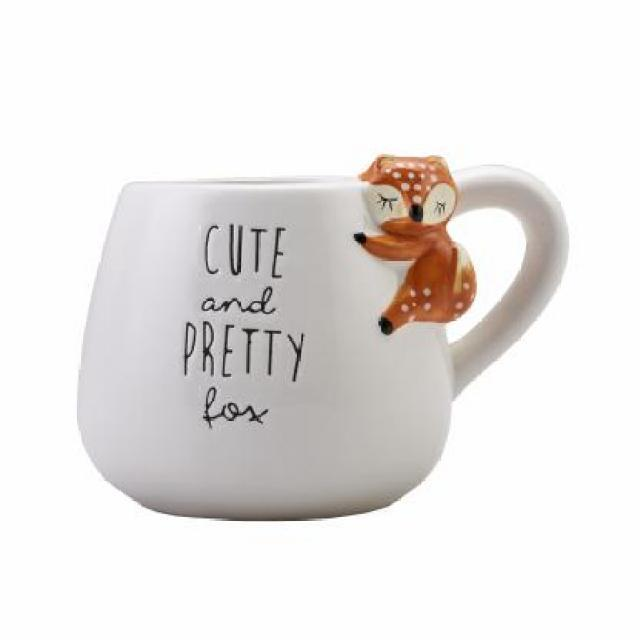taza: (76, 154, 570, 522)
